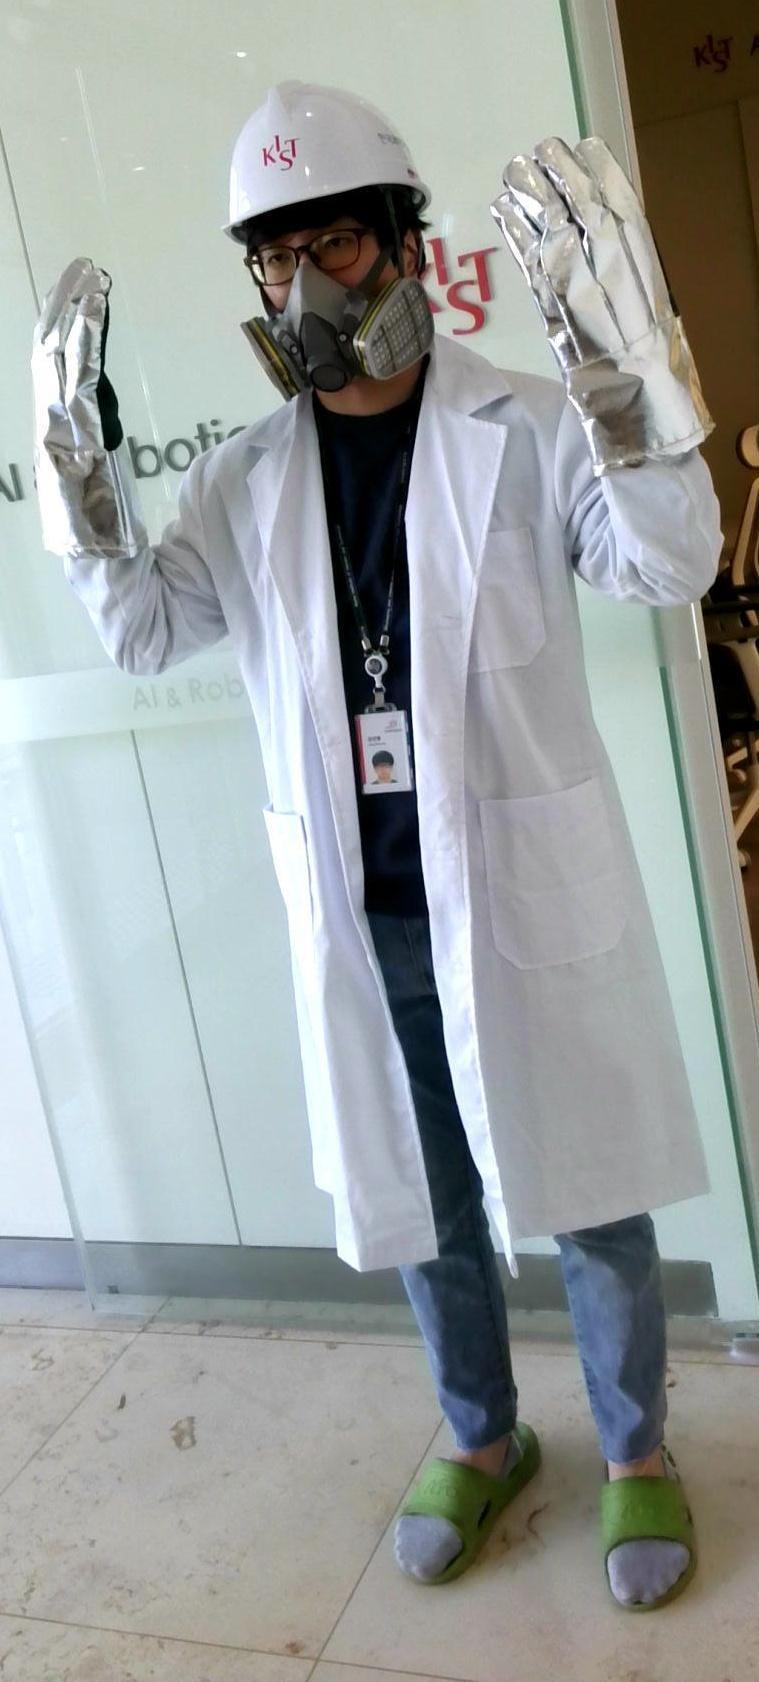lab_coat: (221, 381, 584, 1261)
